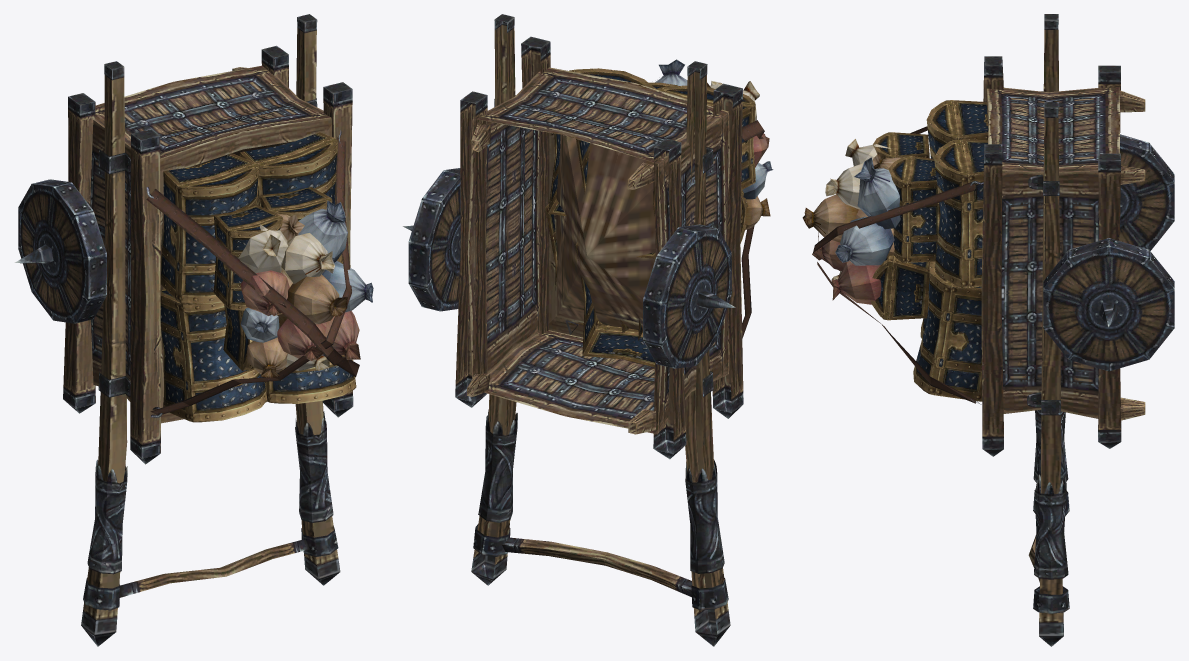
The model's file is juqing_yewai_284_cab_01.obj.
3 views of the same model, side by side, from view 1: azimuth 30°, elevation 25°; view 2: azimuth 150°, elevation 25°; view 3: azimuth 270°, elevation 25° (orthographic). The views are drawn at different scales.
Parts seen in each view (by area): view 1: juqing_yewai_284_cab_01; view 2: juqing_yewai_284_cab_01; view 3: juqing_yewai_284_cab_01.
Boxes of the visible parts, bbox=[...] form: juqing_yewai_284_cab_01: bbox=[15, 14, 373, 646]; juqing_yewai_284_cab_01: bbox=[403, 14, 773, 646]; juqing_yewai_284_cab_01: bbox=[802, 14, 1174, 646].
Size of the model in its own units: 141 by 233 by 145.
3 materials, 3 textured.
